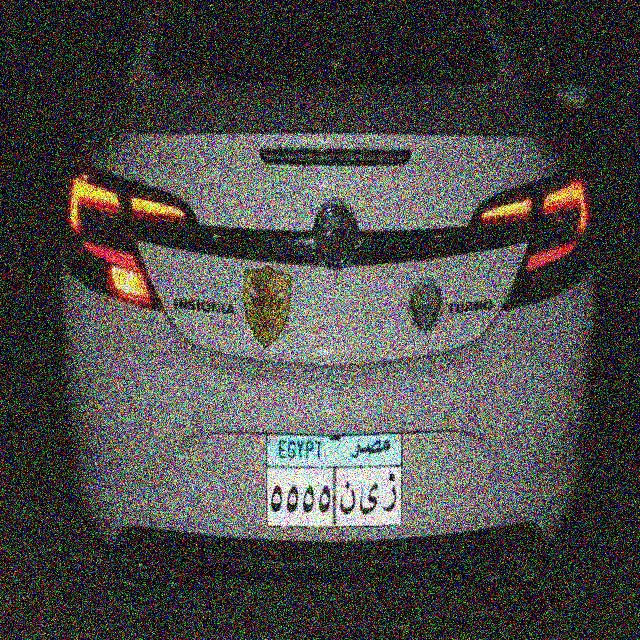License Plate: (263, 431, 404, 532)
